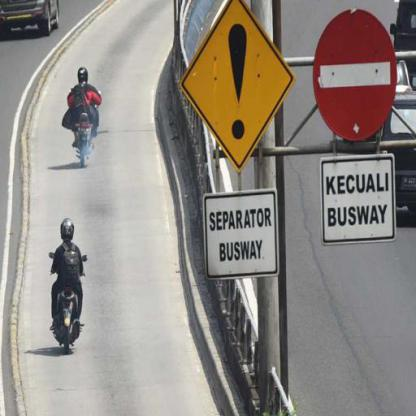car: (1, 0, 61, 41)
motorbike: (50, 275, 87, 355), (66, 109, 102, 171)
